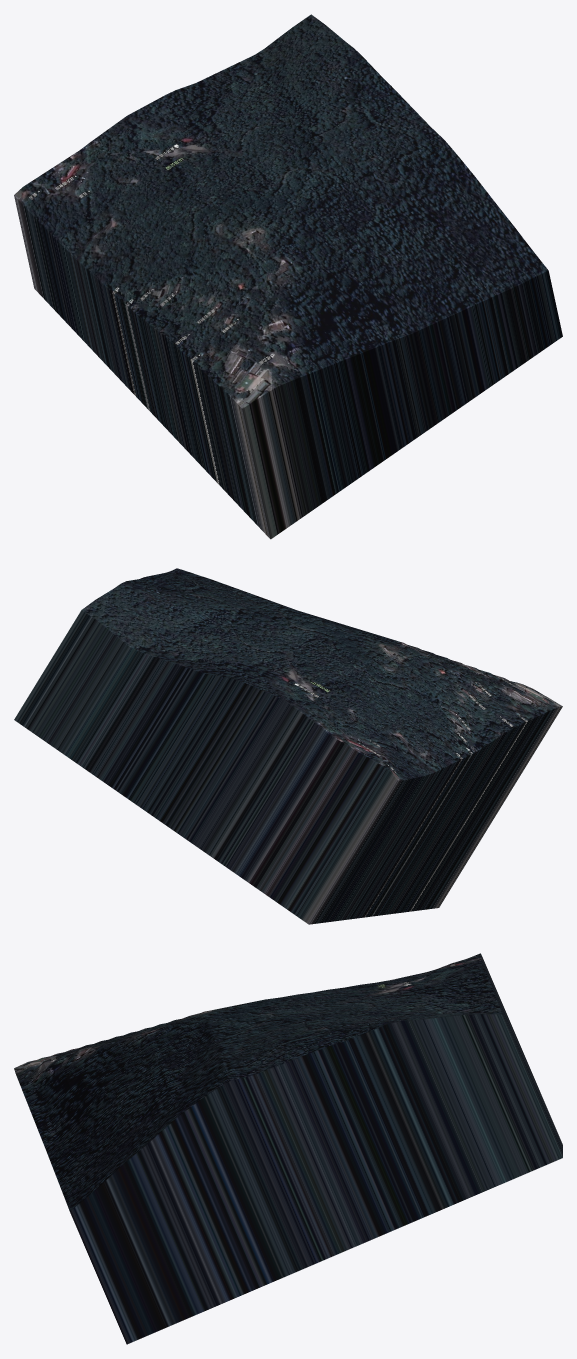
3 renders of one model, top to bottom at view 1: azimuth 30°, elevation 25°; view 2: azimuth 150°, elevation 25°; view 3: azimuth 270°, elevation 25°, orthographic. The views are drawn at different scales.
Visible parts, largest first — view 1: 0_0_17; view 2: 0_0_17; view 3: 0_0_17.
Part boxes in pixels (box(x1,y1,x2,y2)): 0_0_17: box(14, 14, 562, 539); 0_0_17: box(14, 568, 562, 924); 0_0_17: box(14, 953, 562, 1344).
Bounding box in the file's own units: 685 × 592 × 682.
Materials: 1 (1 with a texture image).
